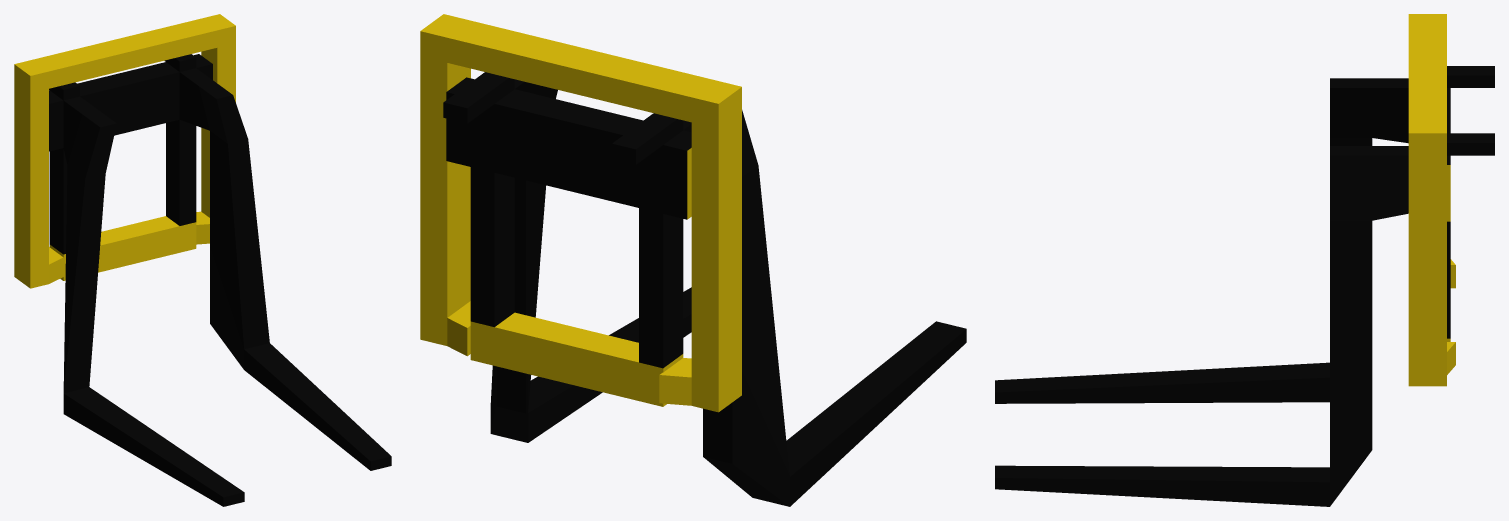
Rendered from Forks.fbx.
The picture shows the model from 3 angles, left to right: view 1: azimuth 30°, elevation 25°; view 2: azimuth 150°, elevation 25°; view 3: azimuth 270°, elevation 25°; orthographic projection. The views are drawn at different scales.
Visible parts, largest first — view 1: Cube; view 2: Cube; view 3: Cube.
Boxes of the visible parts, x1=… form: Cube: x1=14, y1=14, x2=391, y2=506; Cube: x1=420, y1=14, x2=966, y2=506; Cube: x1=995, y1=14, x2=1494, y2=506.
Bounding box in the file's own units: 268 × 390 × 473.
